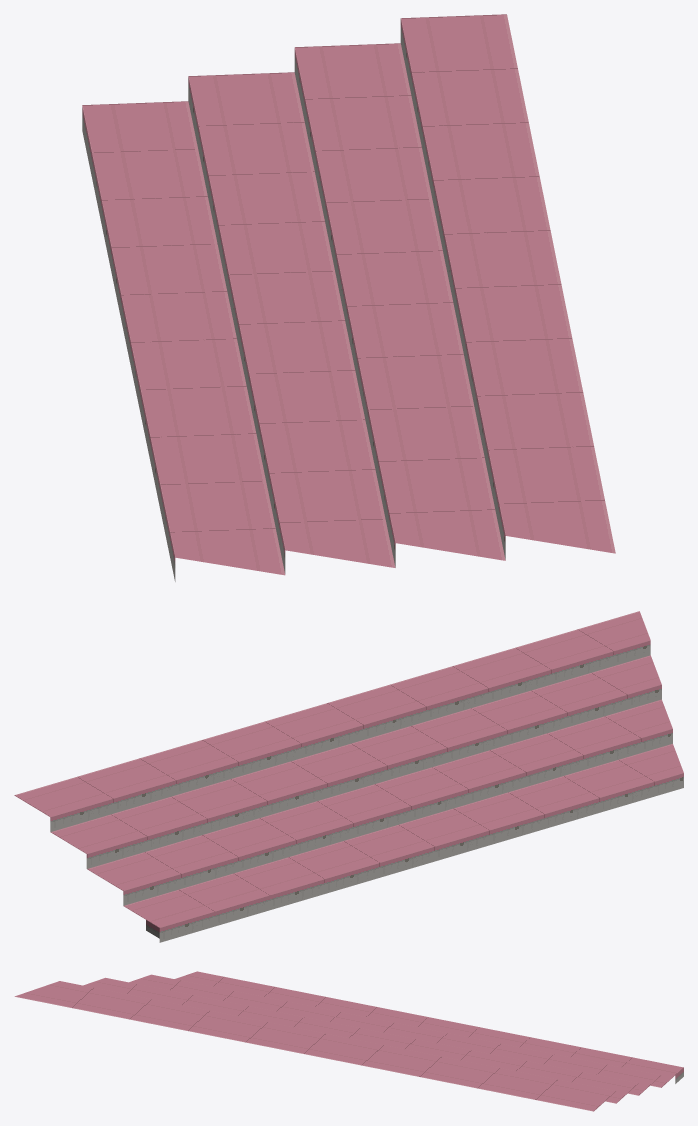
The model's file is kd_stage_13612f_3_29_bounded.glb.
3 renders of one model, top to bottom at view 1: azimuth 30°, elevation 25°; view 2: azimuth 150°, elevation 25°; view 3: azimuth 270°, elevation 25°, orthographic. The views are drawn at different scales.
Parts seen in each view (by area): view 1: kd_stage_13612f_3_29_bounded; view 2: kd_stage_13612f_3_29_bounded; view 3: kd_stage_13612f_3_29_bounded.
Part boxes in pixels (x1=…): kd_stage_13612f_3_29_bounded: x1=82, y1=14, x2=615, y2=581; kd_stage_13612f_3_29_bounded: x1=14, y1=611, x2=683, y2=942; kd_stage_13612f_3_29_bounded: x1=14, y1=971, x2=683, y2=1111.
Size of the model in its own units: 5.48 by 0.72 by 8.72.
1 material, 1 textured.
